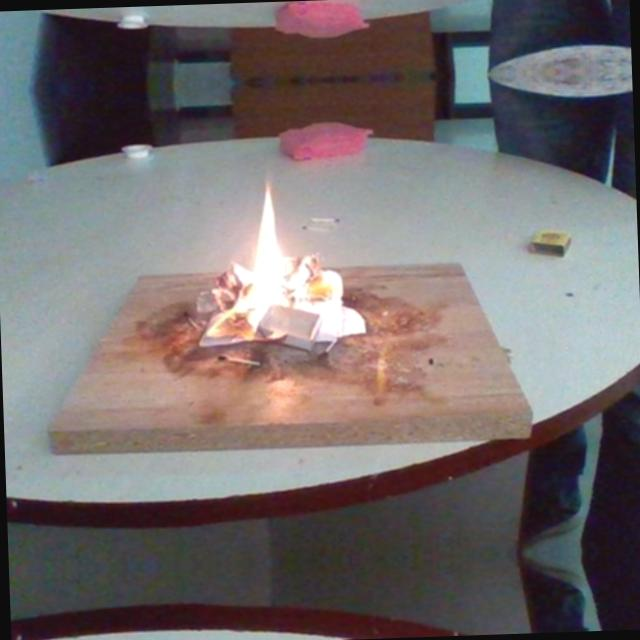fire: (198, 146, 370, 392)
